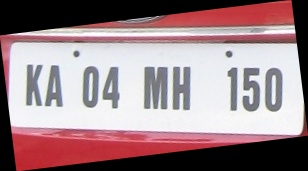character: (142, 65, 168, 111), (171, 64, 191, 110), (43, 63, 63, 108), (242, 65, 261, 112), (24, 62, 43, 107), (264, 67, 283, 112), (101, 66, 120, 109), (81, 65, 99, 108), (226, 66, 239, 112)
